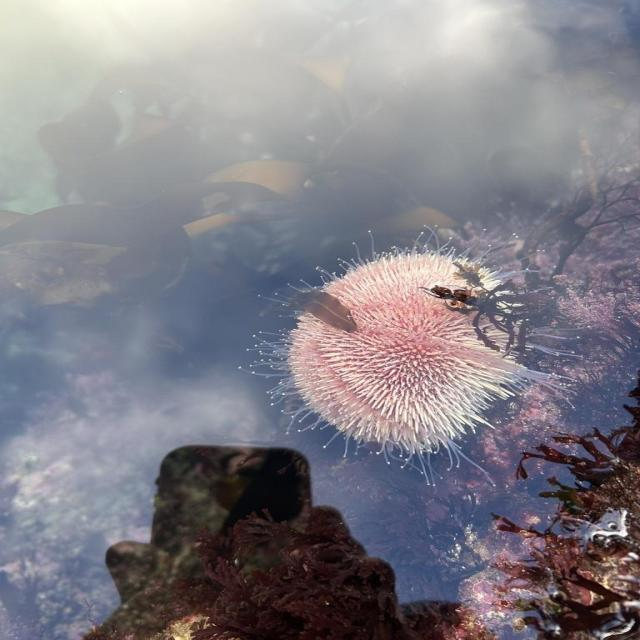Deniz Kestanesi: (237, 222, 580, 487)
